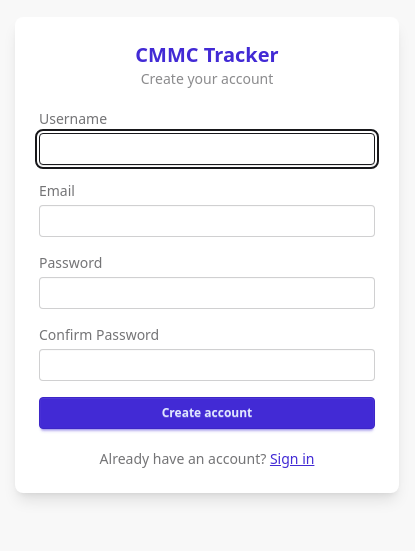
Test: RegisterPage › shows validation when submitting empty form
Click the button "Create account".
click(207, 413)  # box [39, 397, 375, 429]
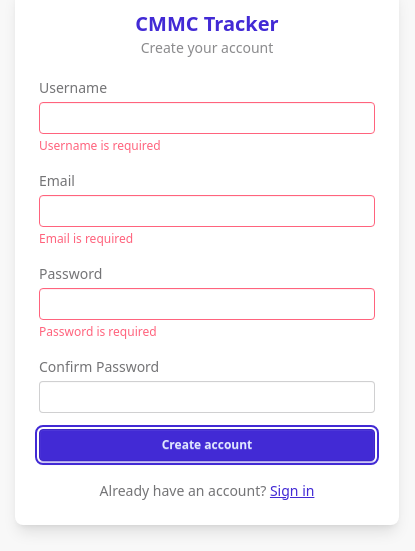
Now the text "Username is required" is shown, box [39, 136, 161, 154]
Now the text "Email is required" is shown, box [39, 230, 133, 246]
Now the text "Password is required" is shown, box [39, 322, 157, 340]
